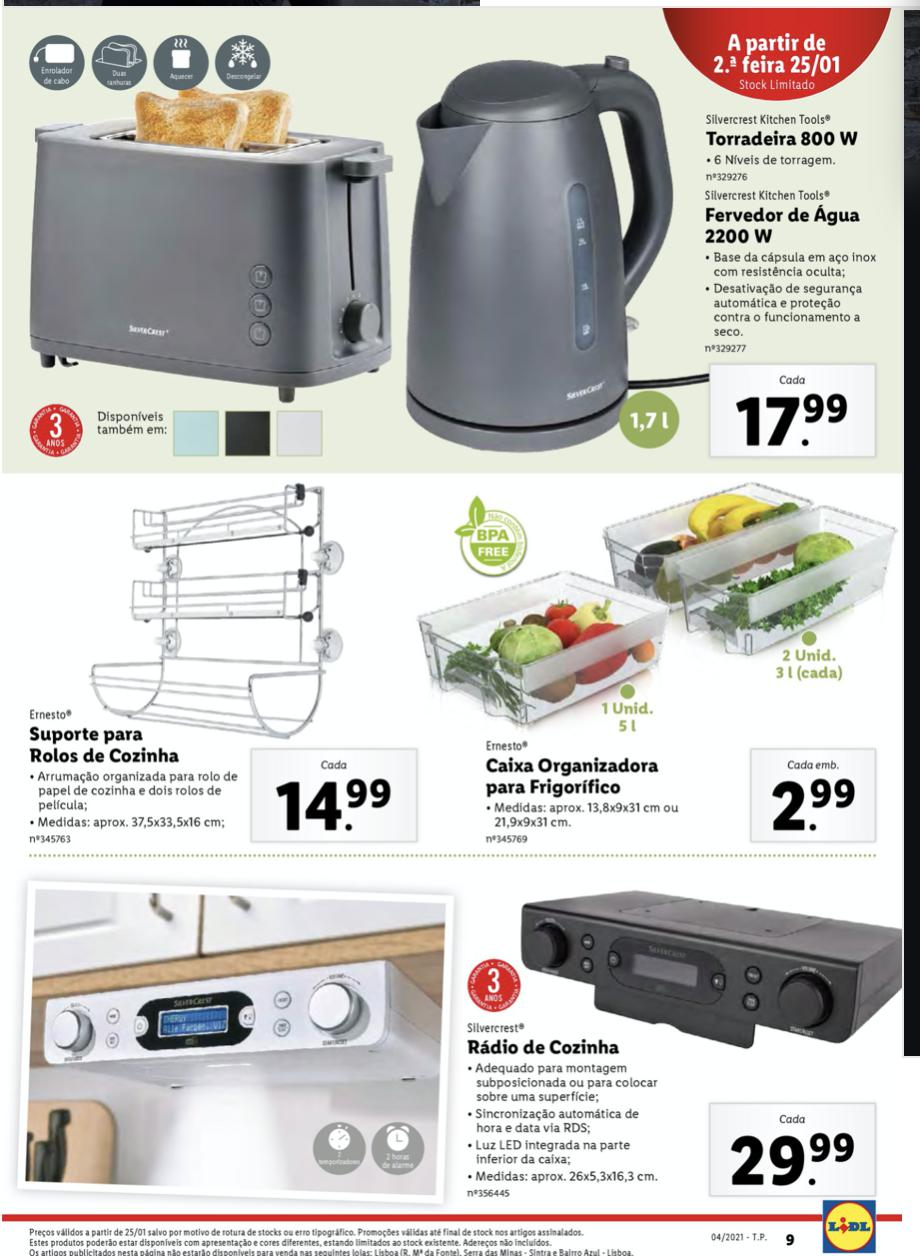name: (480, 752, 666, 799), (697, 202, 870, 249), (22, 724, 183, 766), (458, 1032, 628, 1063), (708, 125, 867, 155)
price: (700, 1096, 880, 1202), (247, 746, 422, 846), (710, 363, 875, 454), (744, 743, 881, 847)
product: (13, 11, 895, 464), (425, 477, 897, 855), (17, 480, 433, 854), (458, 877, 897, 1205)
